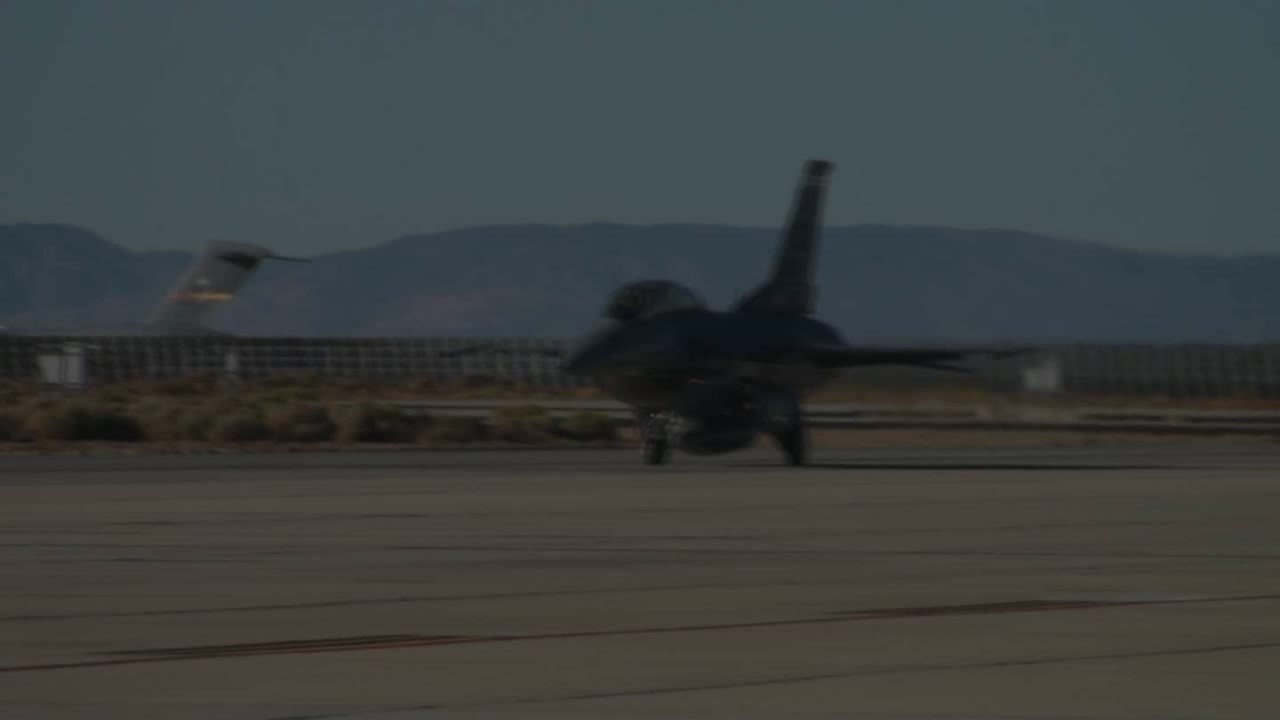aeroplane: (555, 155, 1052, 474)
